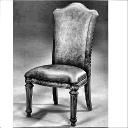chair_success: (18, 0, 100, 128)
